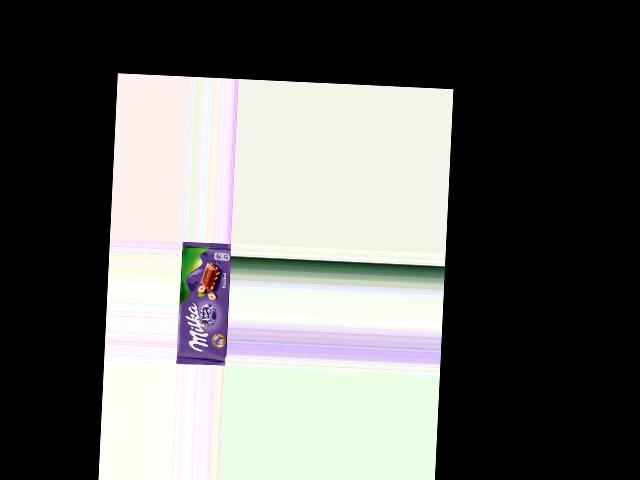chocolate: (176, 241, 232, 365)
